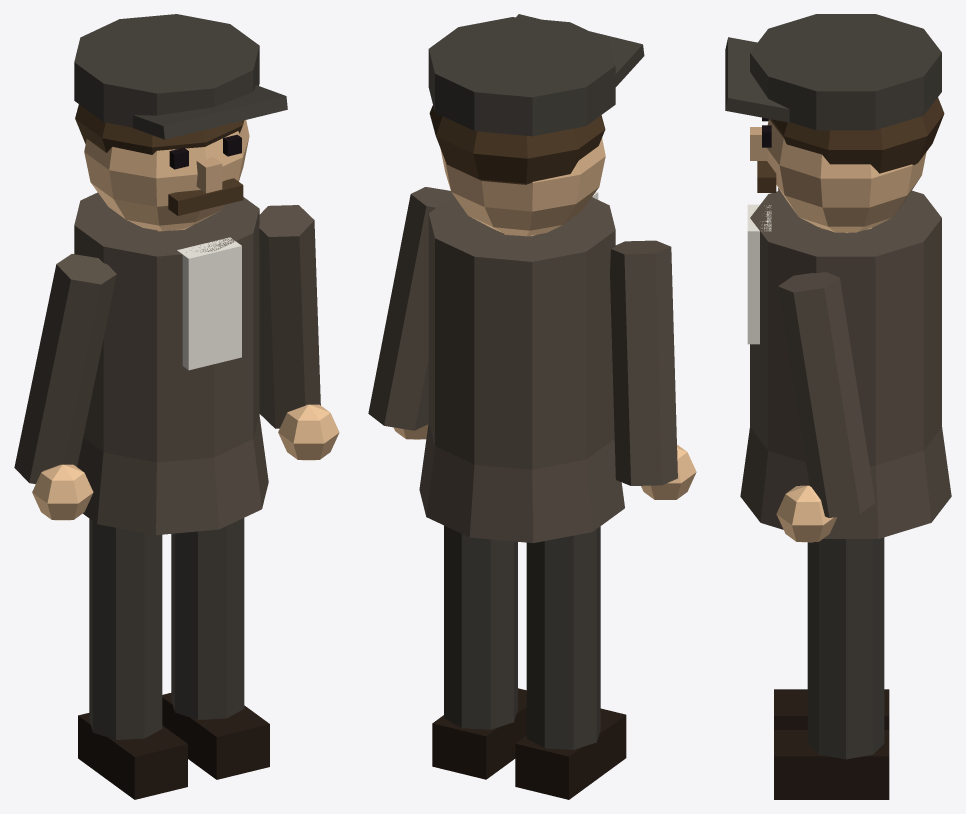
Rendered from przechodzien_0.glb.
3 renders of one model, left to right at view 1: azimuth 30°, elevation 25°; view 2: azimuth 150°, elevation 25°; view 3: azimuth 270°, elevation 25°, orthographic.
Parts seen in each view (by area): view 1: cialo, noga_l, noga_p, reka_l, reka_p; view 2: cialo, noga_l, noga_p, reka_l, reka_p; view 3: cialo, noga_p, reka_p, noga_l.
Part boxes in pixels (x1,y1,x2,y2): cialo: (74, 14, 287, 535); noga_l: (78, 518, 187, 799); noga_p: (162, 518, 269, 779); reka_l: (14, 254, 116, 520); reka_p: (259, 205, 339, 460); cialo: (419, 14, 644, 543); noga_l: (515, 526, 626, 799); noga_p: (432, 525, 526, 779); reka_l: (610, 240, 696, 499); reka_p: (368, 187, 453, 439); cialo: (725, 14, 951, 538); noga_p: (774, 537, 889, 799); reka_p: (776, 272, 875, 542); noga_l: (774, 689, 889, 729).
Size of the model in its own units: 0.7126 by 1.64 by 0.4714.
